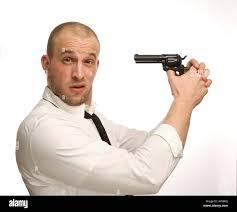criminal: (14, 20, 213, 195)
weapon: (132, 51, 194, 78)
